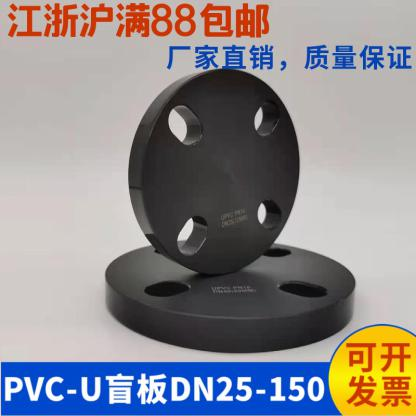FOD: (123, 63, 304, 279), (101, 227, 358, 360)
